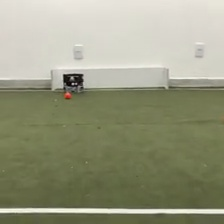ball: (63, 89, 72, 99)
goal: (47, 64, 171, 91)
robot: (61, 71, 86, 94)
